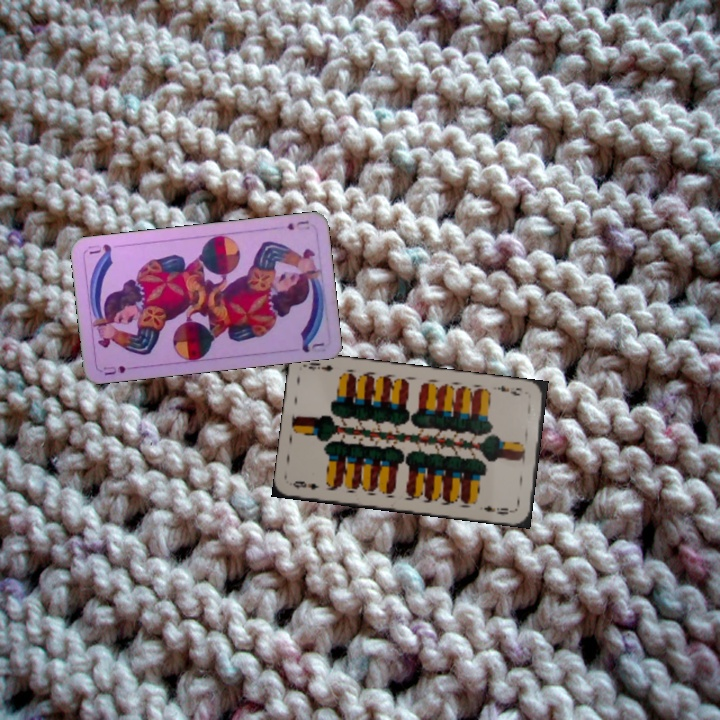E9: (493, 381, 525, 399), (289, 477, 322, 492)
SU: (99, 362, 138, 378), (283, 216, 311, 233)
